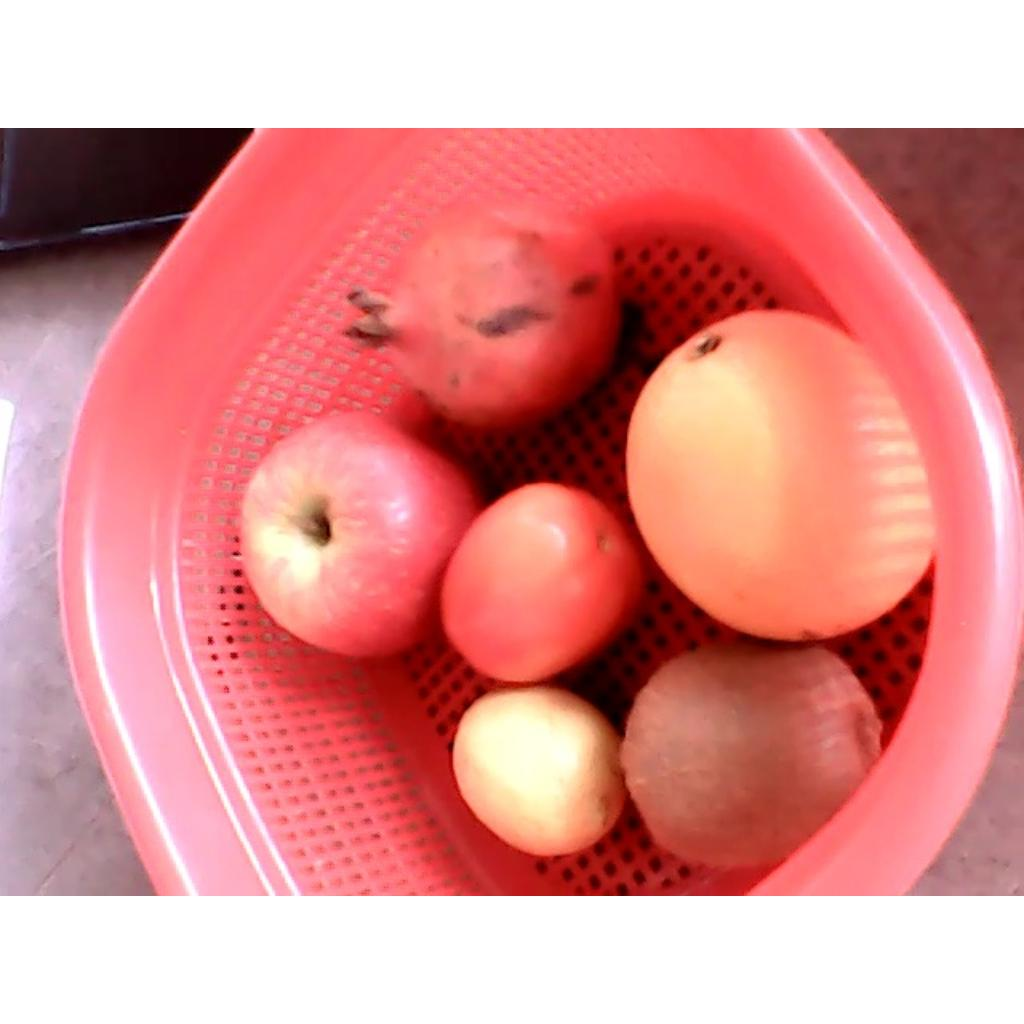apple: (238, 412, 478, 662)
kiwi: (620, 644, 884, 868)
lemon: (453, 685, 628, 860)
orange: (625, 307, 932, 641)
pomegranate: (342, 196, 620, 436)
tomato: (443, 480, 642, 681)
